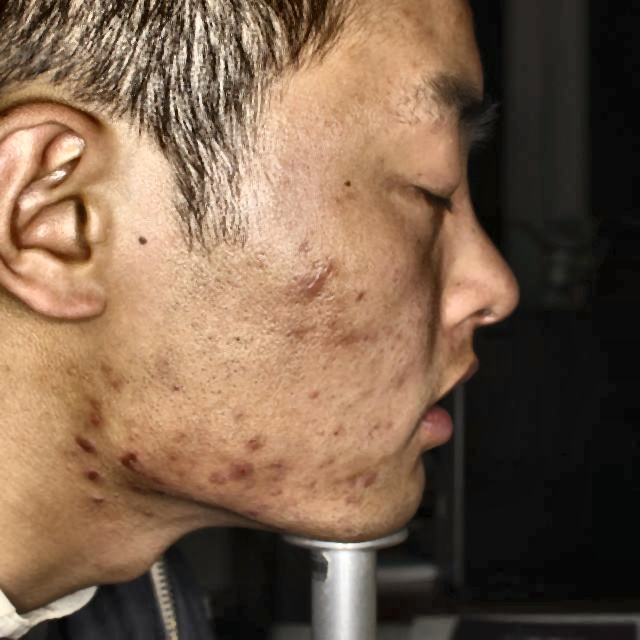pustule: (296, 272, 334, 303), (81, 397, 114, 425), (116, 445, 146, 472), (260, 451, 290, 472), (232, 461, 259, 484), (75, 435, 98, 455), (78, 468, 104, 485), (360, 466, 380, 486), (210, 469, 222, 486)
